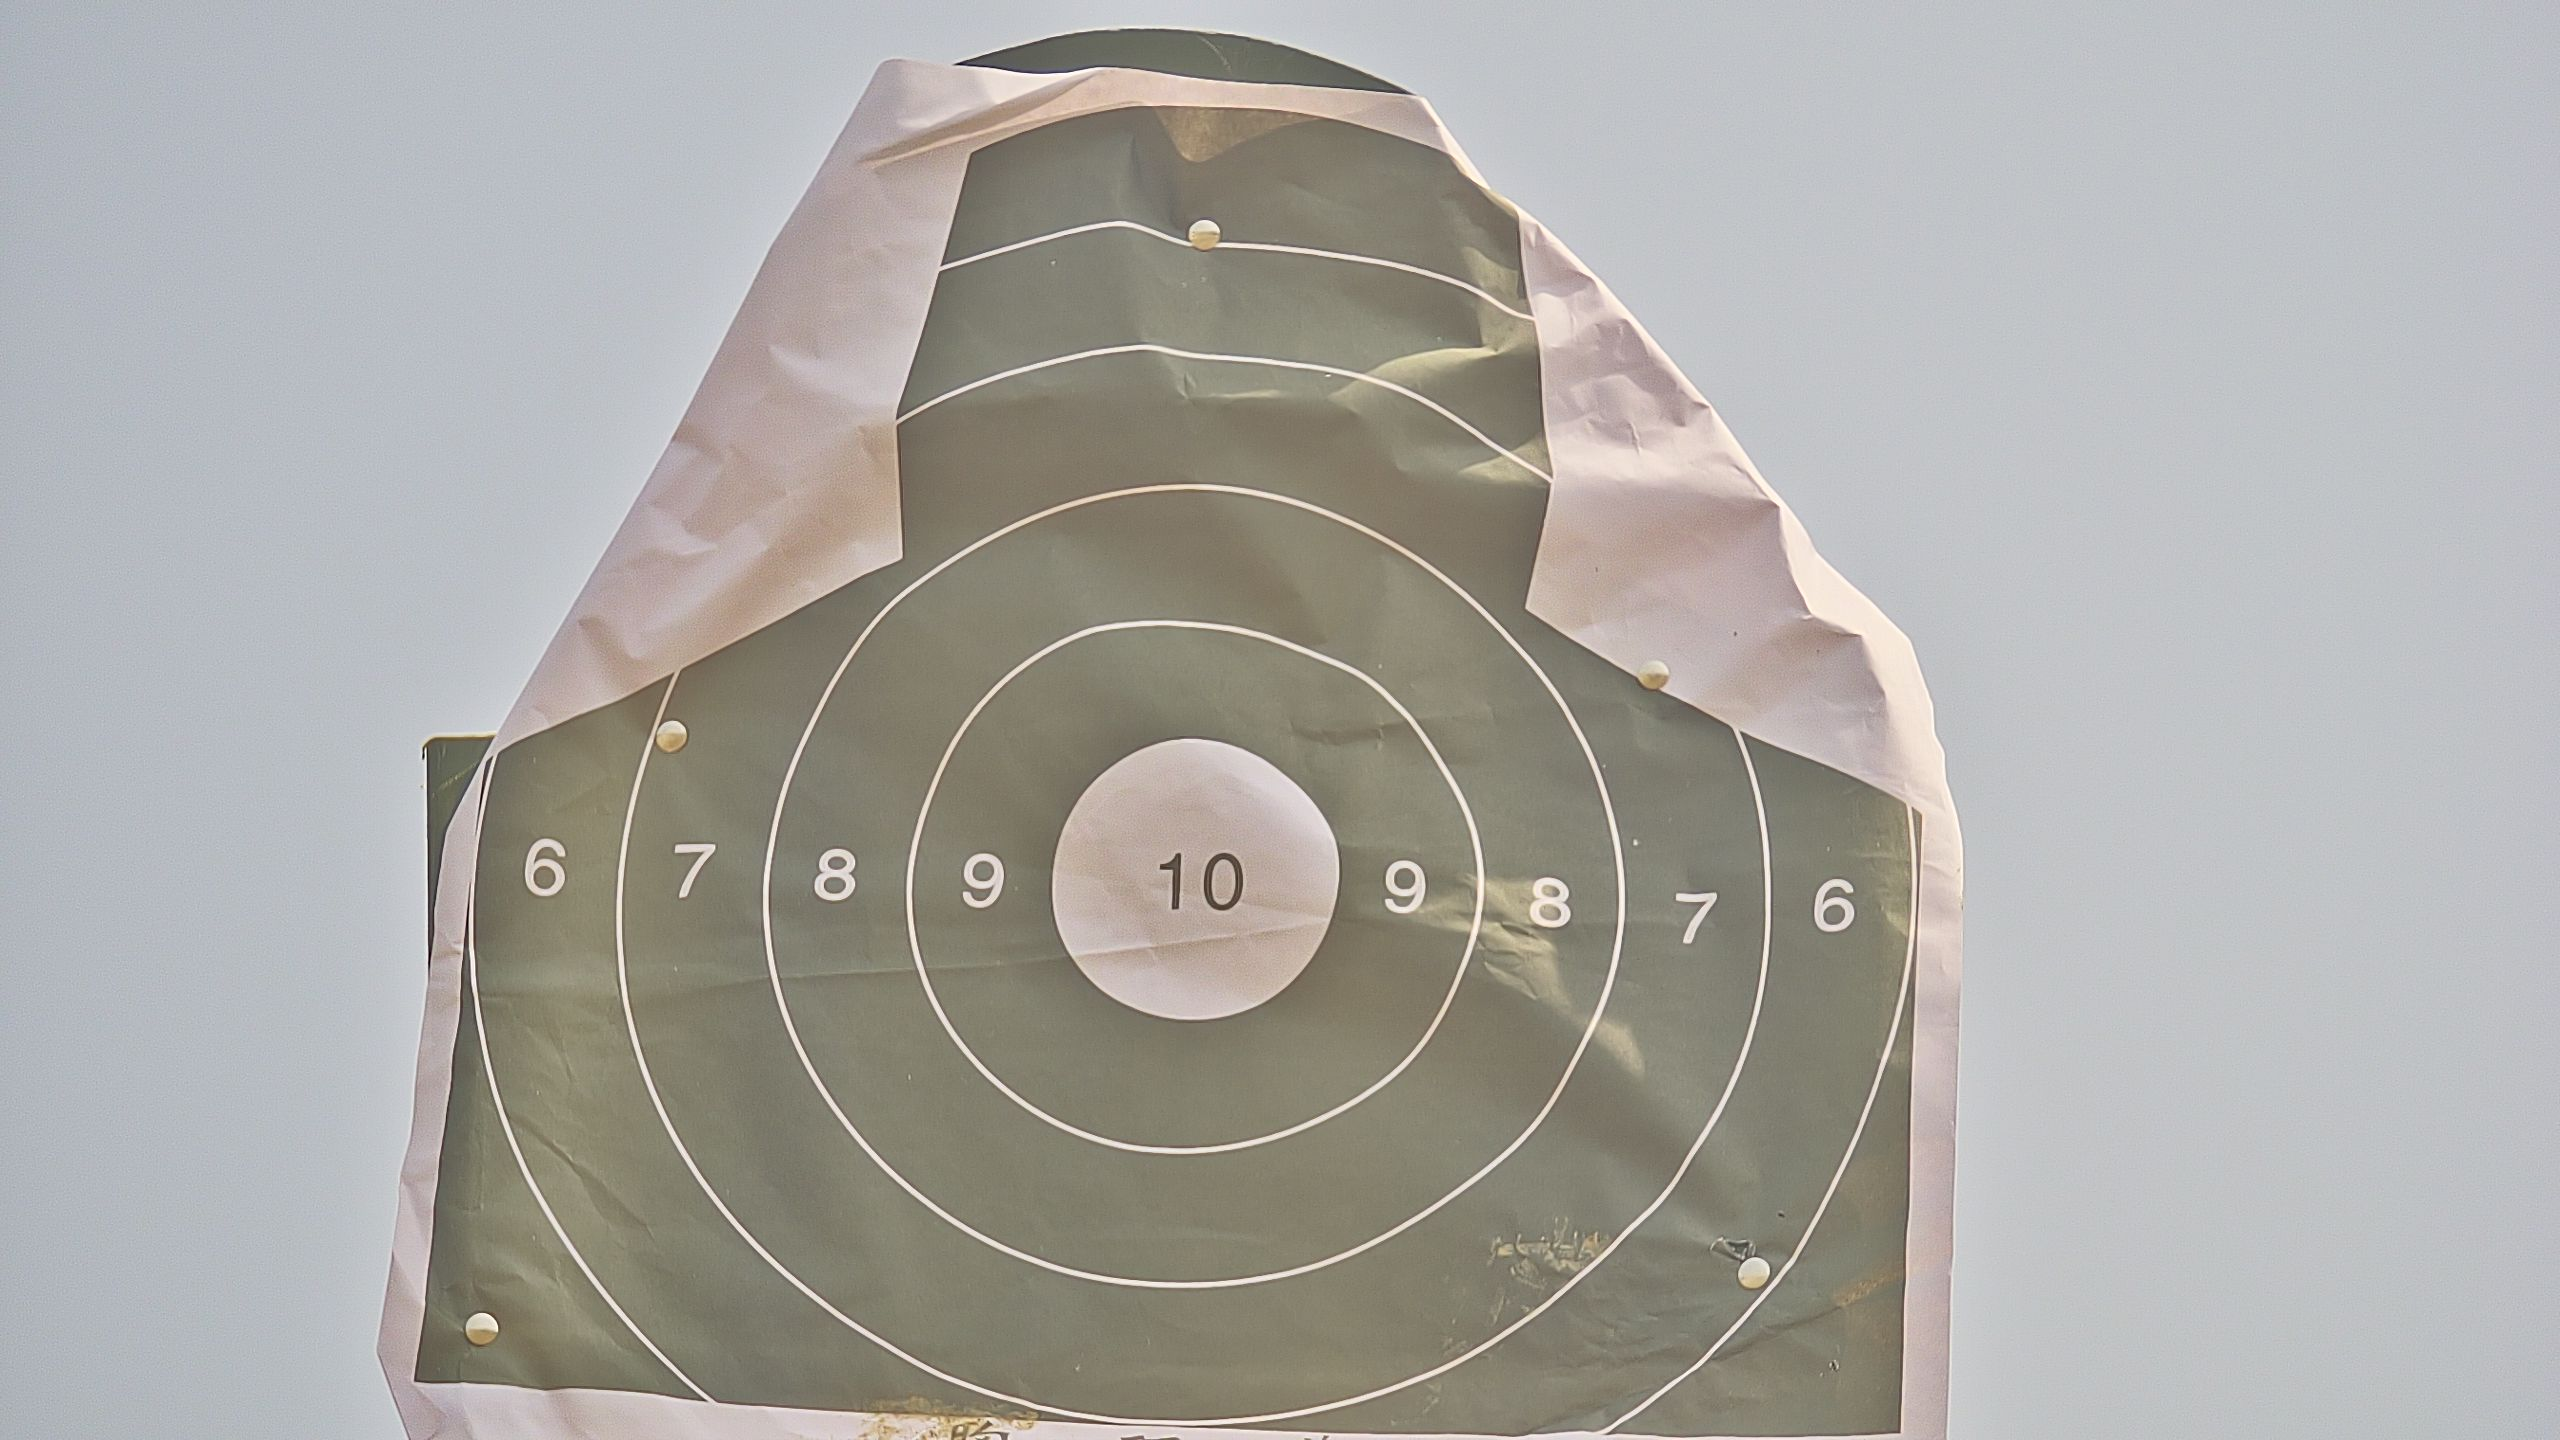kernel: (1187, 879, 1197, 884)
target: (408, 102, 1922, 1440)
ten: (1046, 738, 1340, 1020)
